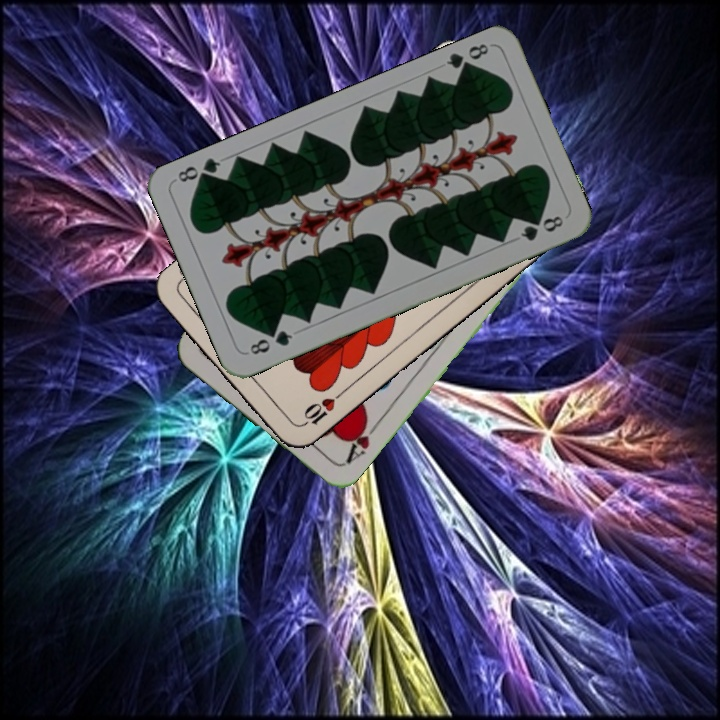G8: (442, 39, 492, 77), (245, 326, 296, 358)
H10: (295, 388, 345, 430)
HA: (341, 413, 383, 466)
